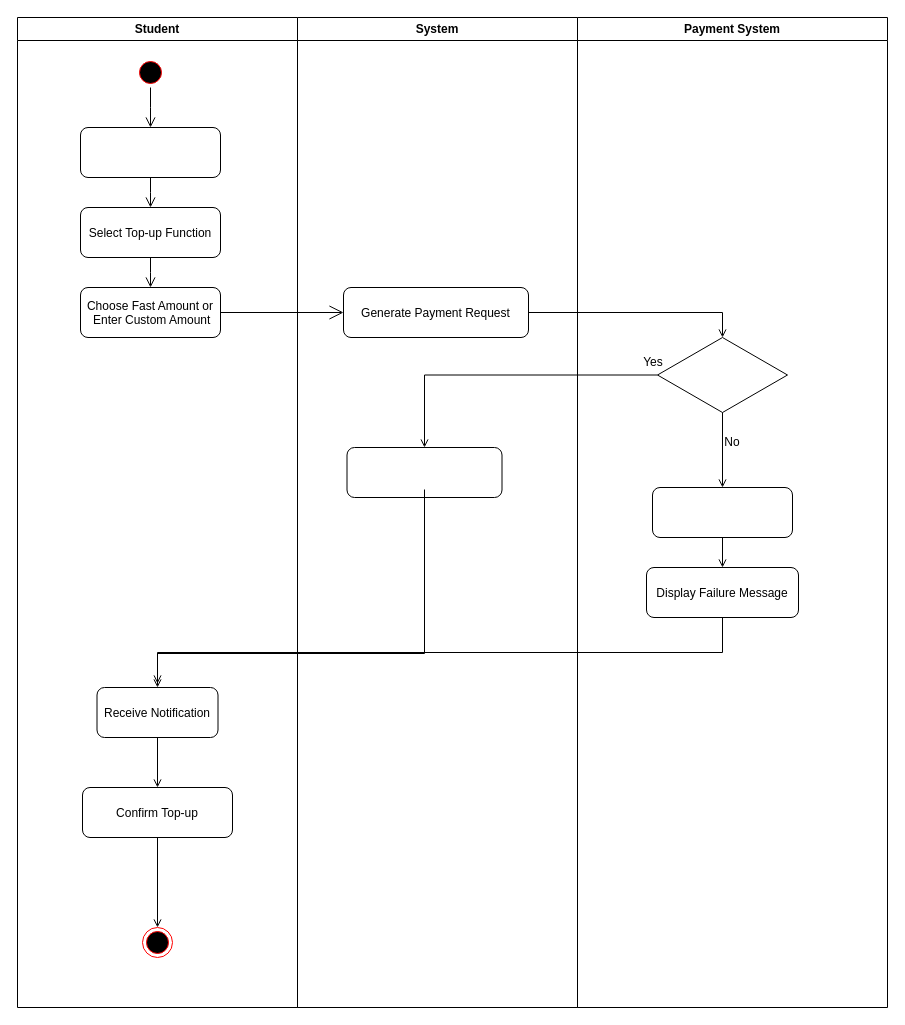
Some shapes in this 905 by 1025 pixel diagram are drawn without their labels. The shapes that lost their labels are listed below. From the top down, each one's box as (x1, y1, x2, y2) in pixels, then its label:
(80, 126, 220, 178): Open campuscard page
(656, 336, 788, 412): Payment Success?
(346, 446, 502, 498): Update Card Balance
(652, 486, 792, 538): Record Transaction
